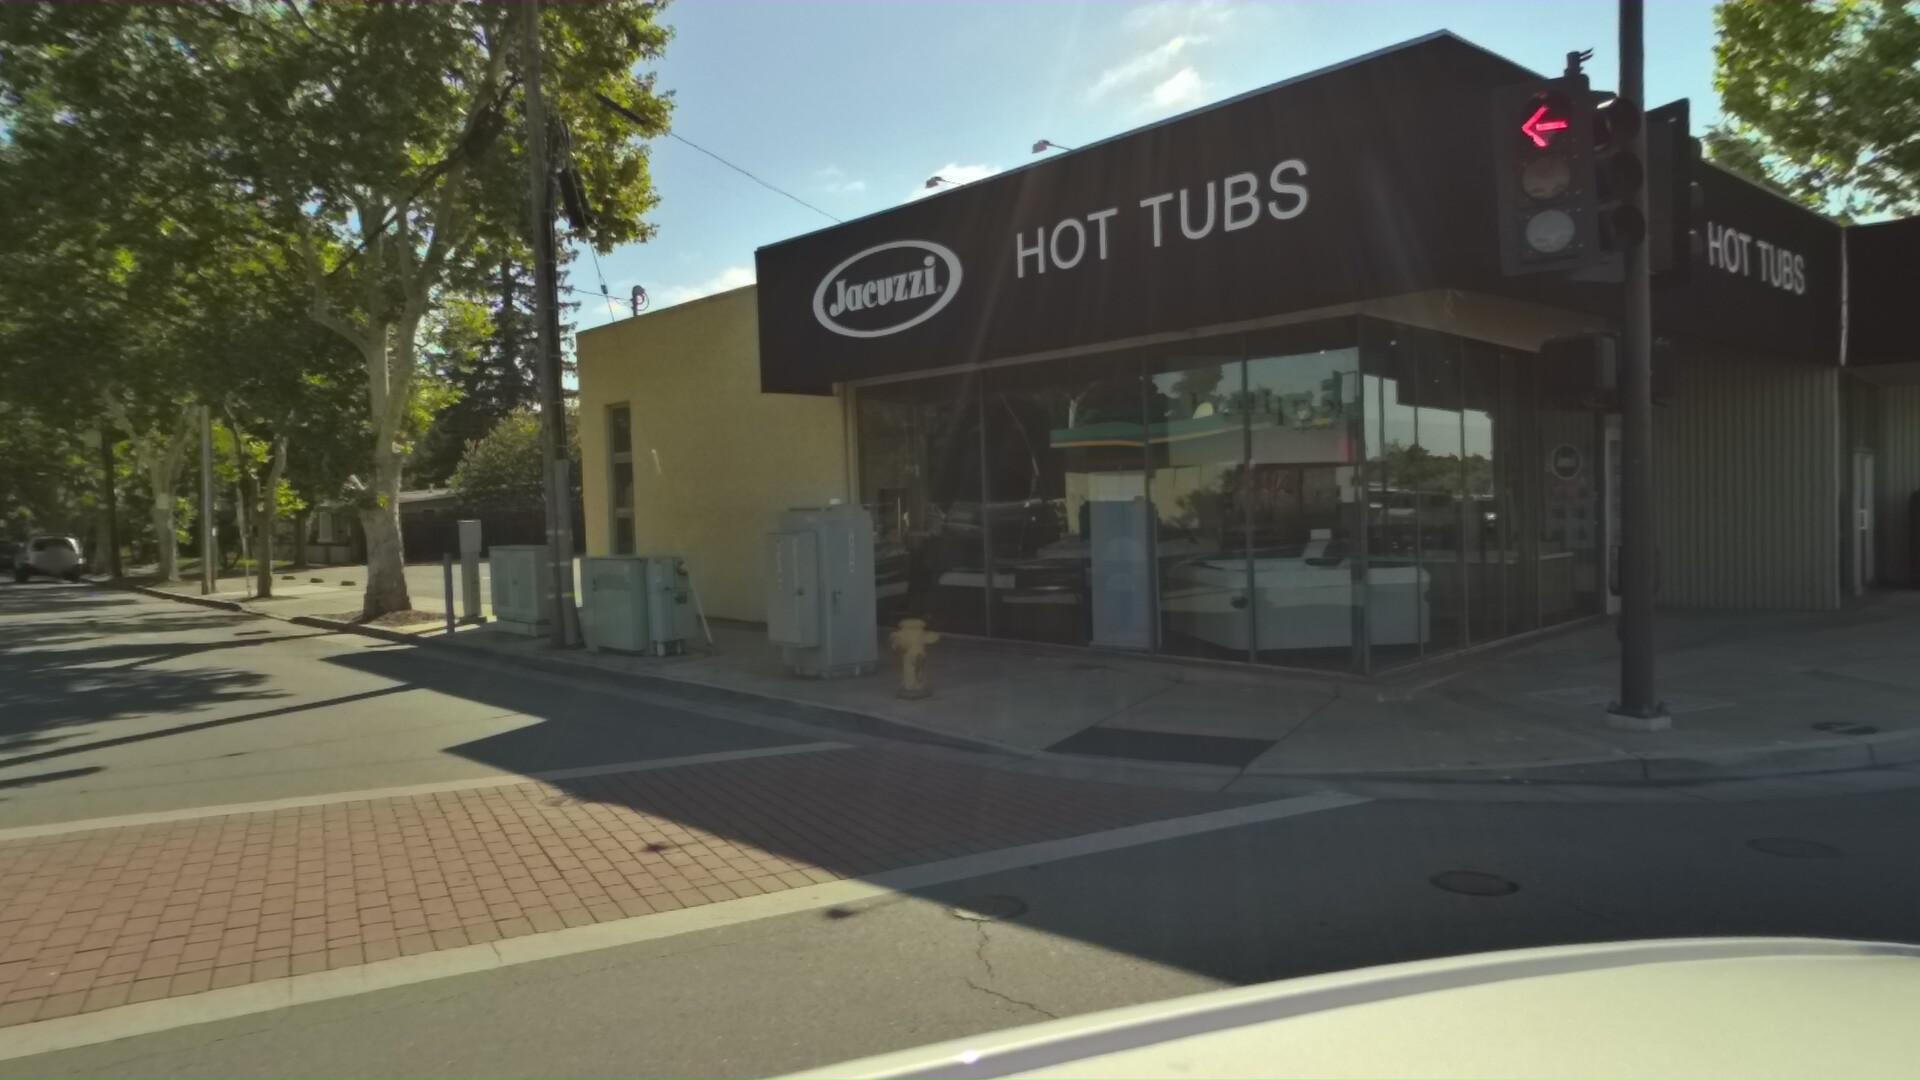car: (20, 524, 105, 585), (0, 538, 44, 574), (0, 533, 36, 568), (0, 538, 5, 564)
